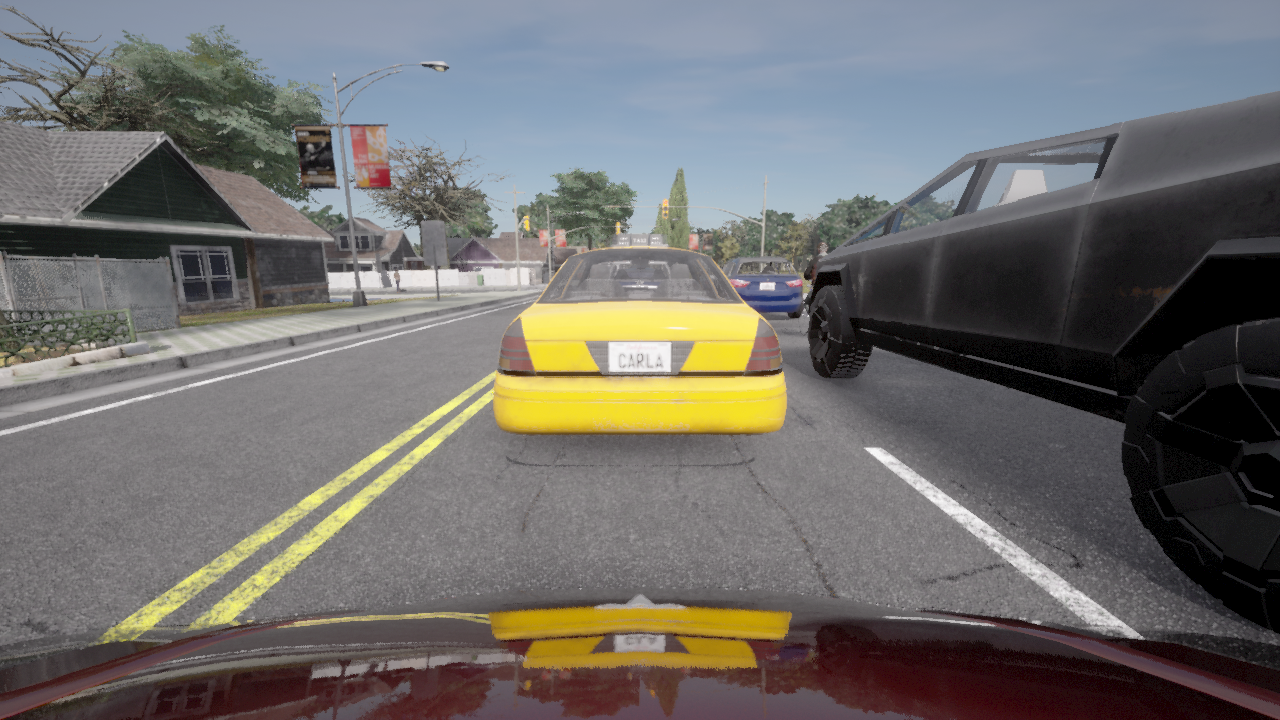cyclist: (808, 91, 1279, 634), (0, 588, 1279, 719), (494, 234, 785, 434), (721, 257, 802, 318), (798, 280, 811, 334)
pedestrian: (393, 269, 401, 292)
